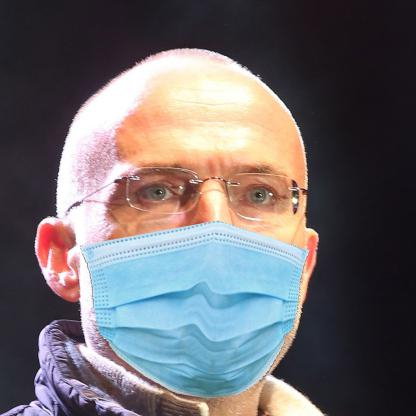Correctly_Masked: (73, 47, 308, 399)
